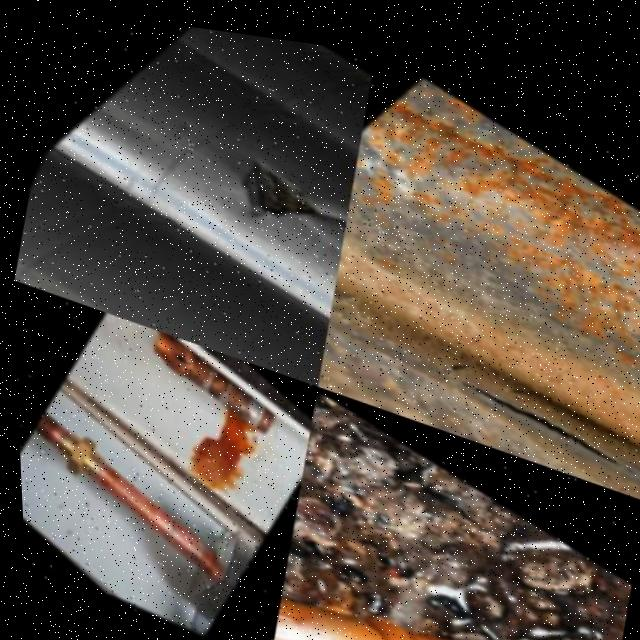crack: (429, 365, 640, 463)
hole: (172, 127, 340, 262)
rupture: (148, 338, 190, 377)
